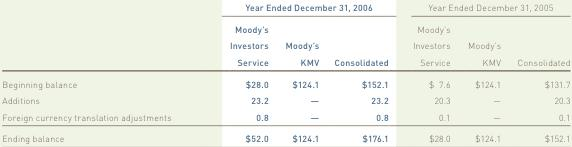table: (1, 1, 569, 143)
table column: (1, 1, 199, 143), (199, 1, 276, 143), (325, 1, 399, 143), (508, 1, 569, 143), (399, 1, 458, 143), (458, 1, 508, 143), (276, 1, 325, 143)
table column header: (1, 1, 569, 72)
table row: (1, 17, 569, 72), (1, 72, 569, 91), (1, 108, 569, 127), (1, 91, 569, 108), (1, 1, 569, 17), (1, 127, 569, 143)
table spanning cell: (199, 1, 399, 17), (399, 1, 569, 17)
